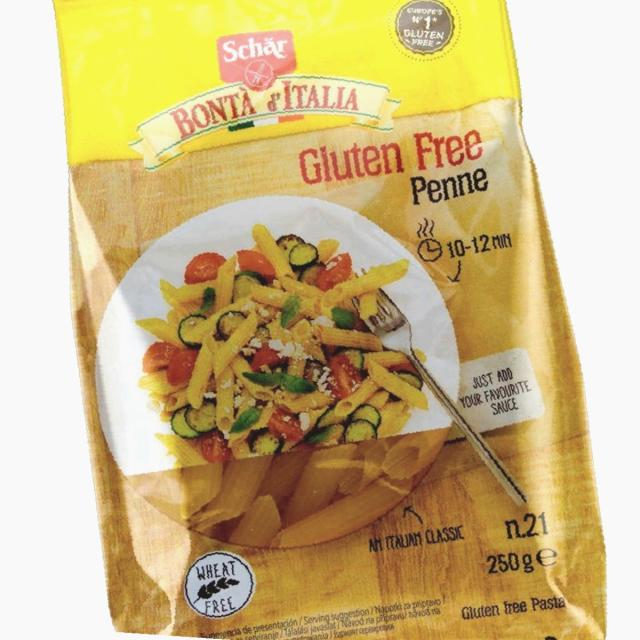pasta package: (55, 0, 604, 639)
